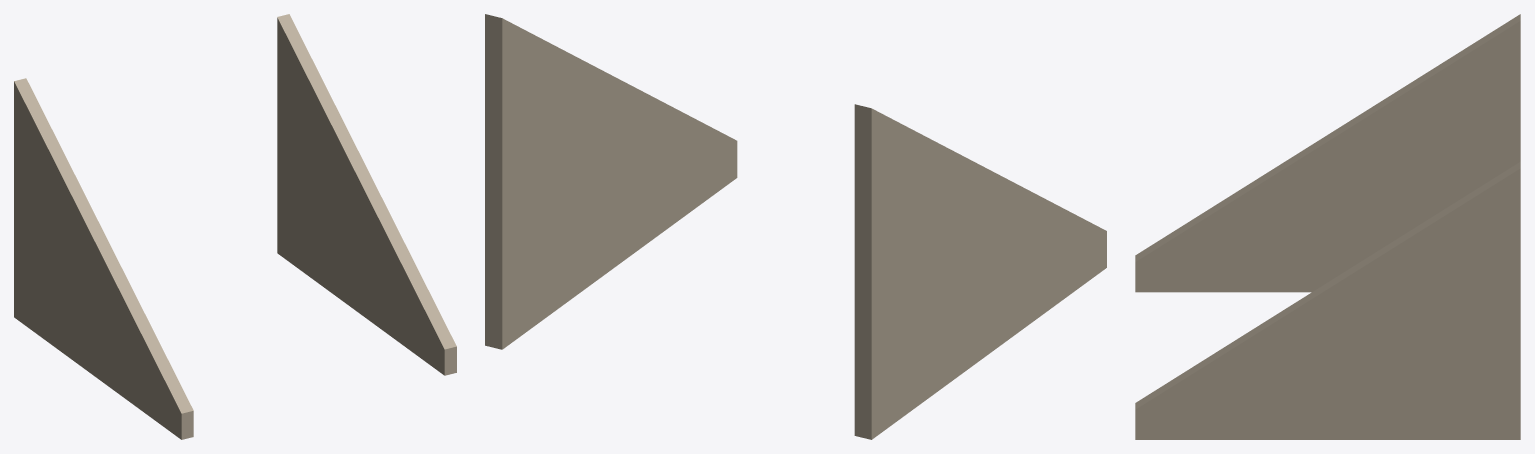
Rendered from stand_modern.glb.
3 views of the same model, side by side, from view 1: azimuth 30°, elevation 25°; view 2: azimuth 150°, elevation 25°; view 3: azimuth 270°, elevation 25° (orthographic). The views are drawn at different scales.
Visible parts, largest first — view 1: stand_modern; view 2: stand_modern; view 3: stand_modern.
Boxes of the visible parts, <box> form: stand_modern: <box>14,14,456,439</box>; stand_modern: <box>485,14,1106,439</box>; stand_modern: <box>1135,14,1520,439</box>.
Size of the model in its own units: 0.45 by 0.3689 by 0.4741.
